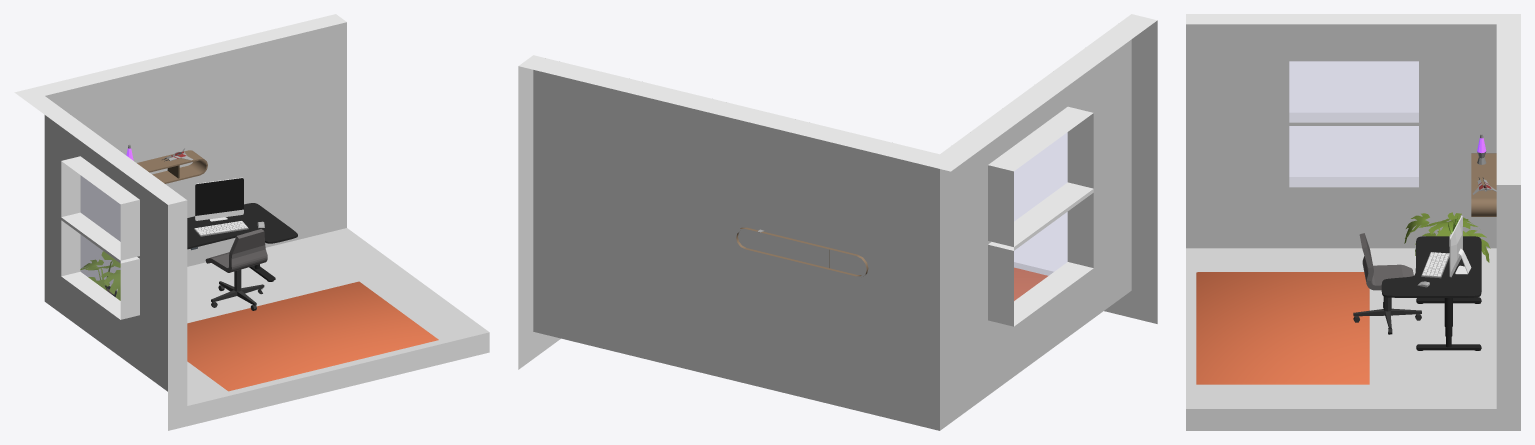
3 views of the same model, side by side, from view 1: azimuth 30°, elevation 25°; view 2: azimuth 150°, elevation 25°; view 3: azimuth 270°, elevation 25° (orthographic). The views are drawn at different scales.
Visible parts, largest first — view 1: Plane, rug, Desk, Chair, imac, shelf, houseplant, keyboard; view 2: Plane, shelf, rug; view 3: Plane, rug, Desk, Chair, shelf, houseplant, imac, keyboard.
Boxes of the visible parts, x1,y1,x2,y2 form: Plane: [14, 14, 489, 430]; rug: [187, 281, 438, 391]; Desk: [187, 203, 297, 281]; Chair: [205, 229, 267, 310]; imac: [195, 177, 243, 221]; shelf: [137, 150, 207, 183]; houseplant: [80, 251, 120, 300]; keyboard: [194, 221, 248, 236]; Plane: [518, 14, 1157, 430]; shelf: [736, 227, 868, 276]; rug: [1014, 267, 1047, 300]; Plane: [1186, 14, 1520, 430]; rug: [1196, 272, 1369, 384]; Desk: [1381, 236, 1481, 350]; Chair: [1353, 233, 1421, 334]; shelf: [1471, 153, 1496, 216]; houseplant: [1404, 212, 1490, 262]; imac: [1449, 215, 1471, 277]; keyboard: [1421, 252, 1449, 278].
Bounding box in the file's own units: 5.72 × 3.84 × 4.74.
